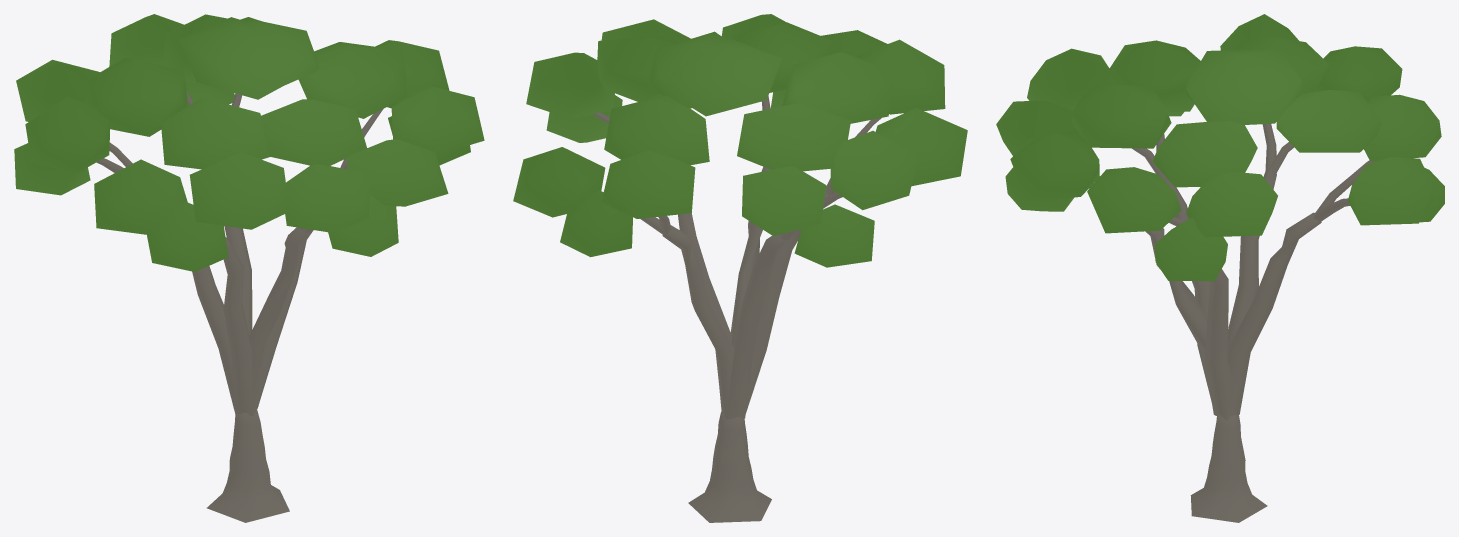
File: Blender_AmericanElm_2_Far.glb
3 views of the same model, side by side, from view 1: azimuth 30°, elevation 25°; view 2: azimuth 150°, elevation 25°; view 3: azimuth 270°, elevation 25° (orthographic). The views are drawn at different scales.
Parts seen in each view (by area): view 1: Blender_AmericanElm_2_Far; view 2: Blender_AmericanElm_2_Far; view 3: Blender_AmericanElm_2_Far.
Part boxes in pixels (x1,y1,x2,y2): Blender_AmericanElm_2_Far: (14,14,484,522); Blender_AmericanElm_2_Far: (513,14,967,522); Blender_AmericanElm_2_Far: (996,14,1444,522).
Size of the model in its own units: 19.68 by 22.3 by 20.1.
